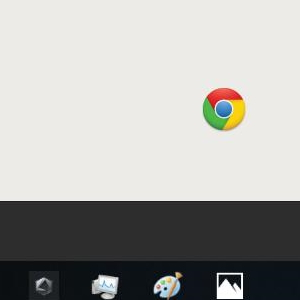chrome: (202, 86, 246, 132)
